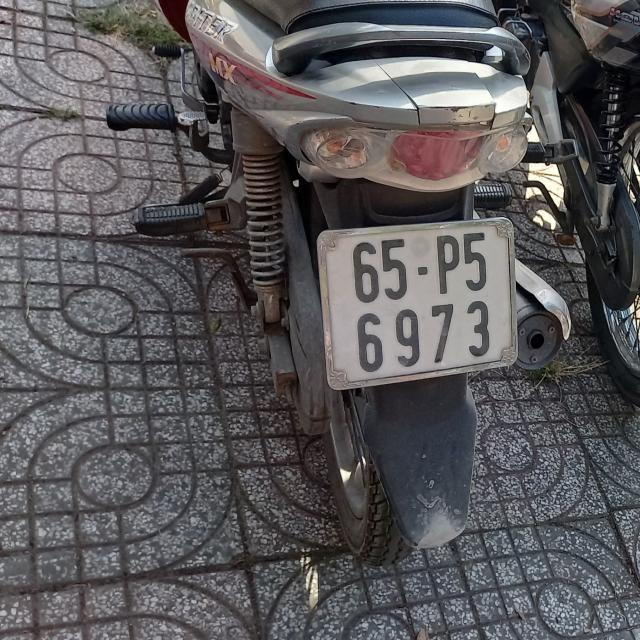3: (466, 299, 490, 356)
5: (381, 238, 411, 300), (463, 232, 487, 292)
6: (351, 240, 381, 306), (356, 312, 386, 373)
7: (432, 302, 453, 363)
9: (394, 308, 419, 366)
P: (434, 234, 460, 296)
